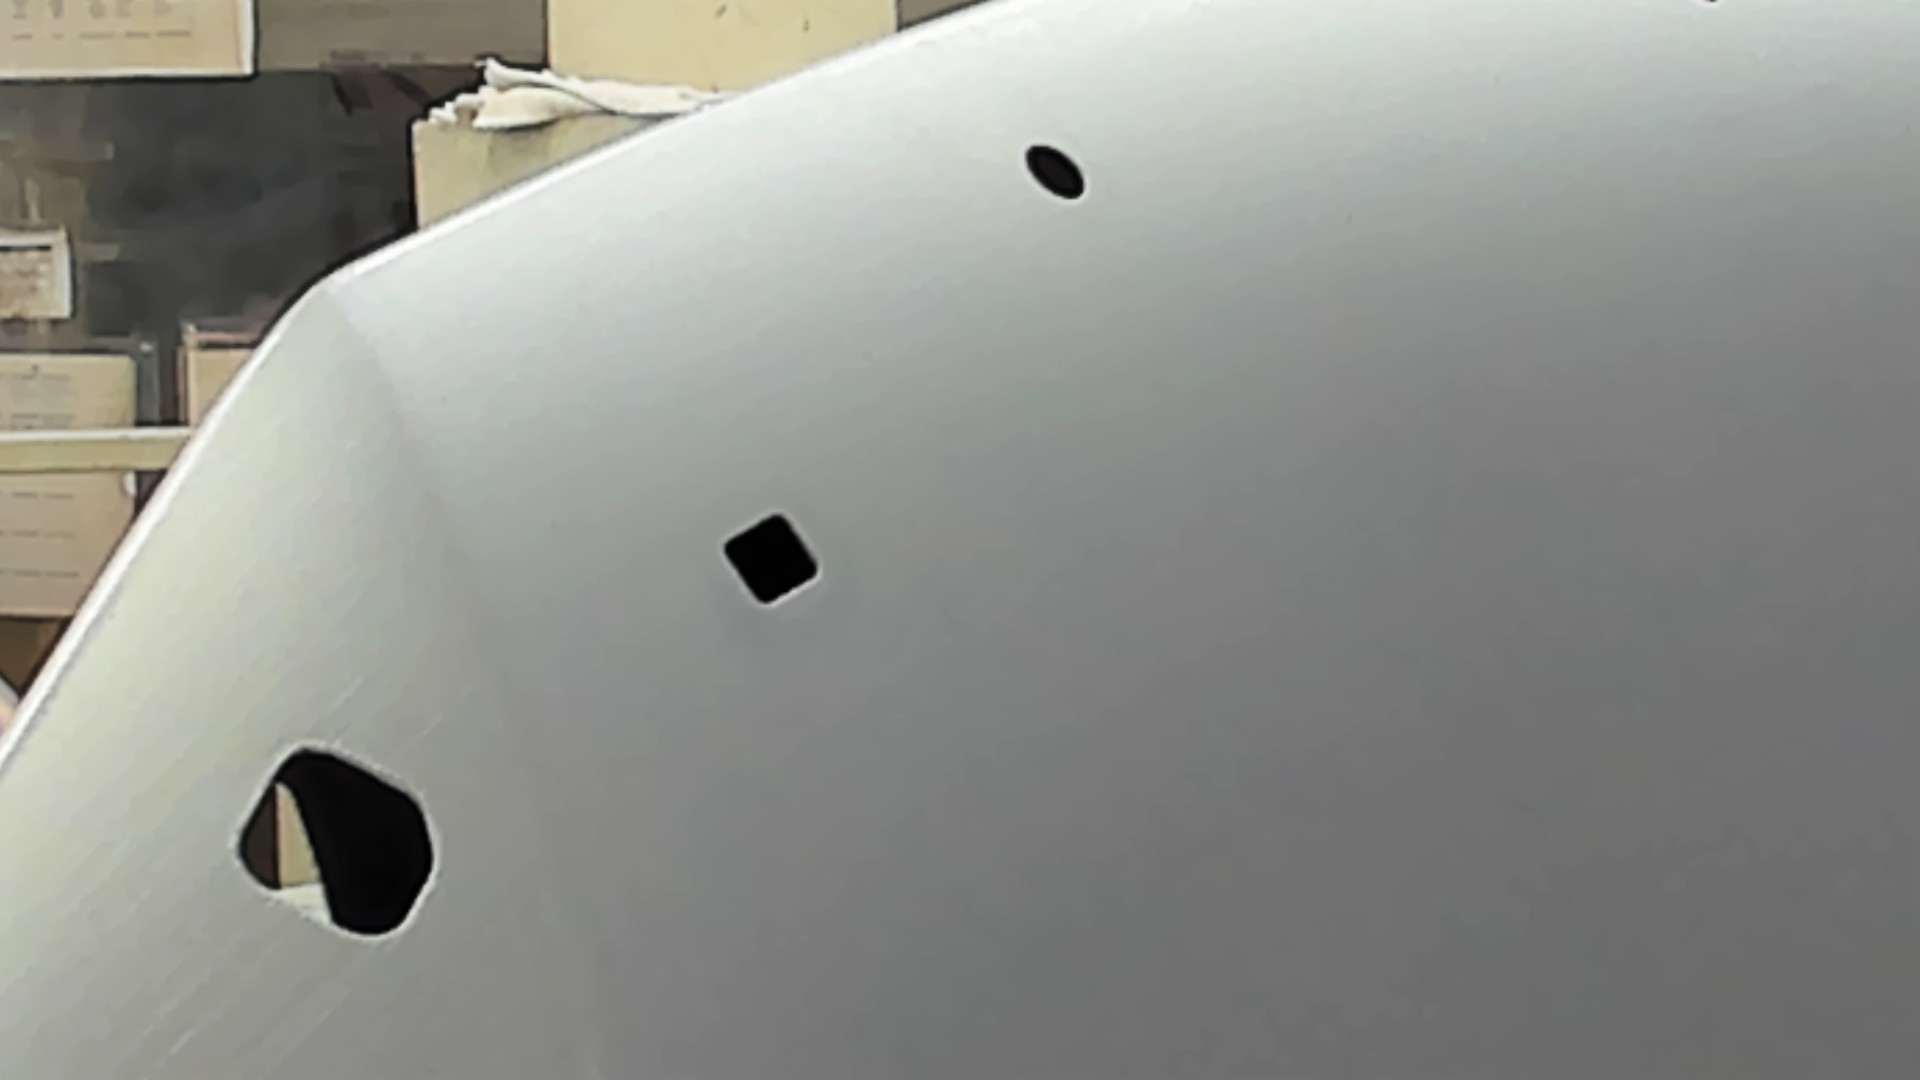chico: (1018, 138, 1092, 203)
grande: (229, 742, 450, 947)
mediano: (713, 509, 827, 611)
